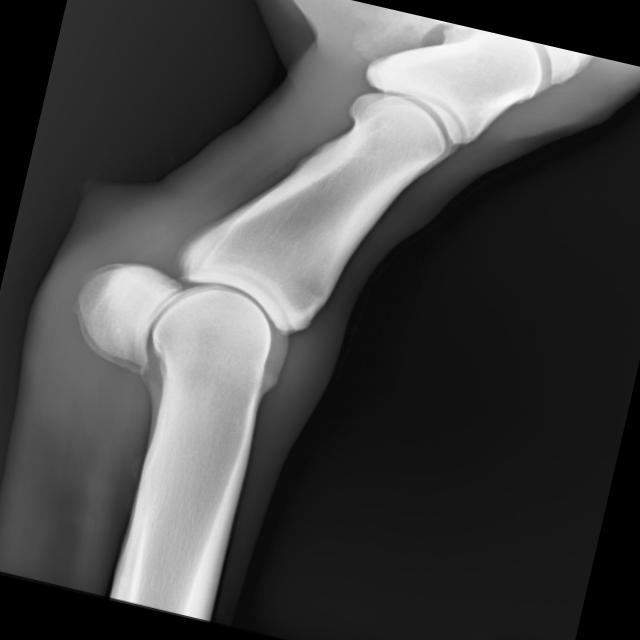joint-ht8A: (7, 154, 404, 492)
